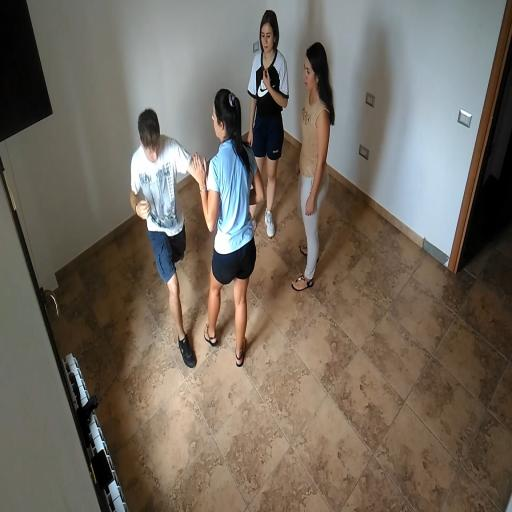violencia: (106, 80, 272, 380)
